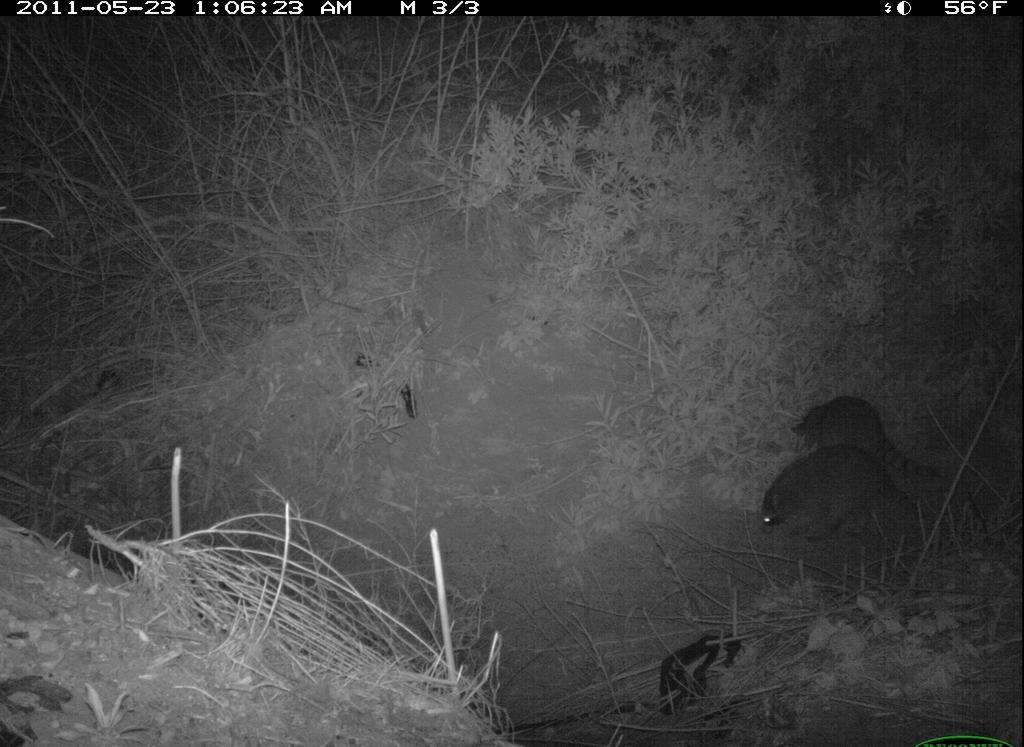raccoon: (752, 440, 923, 579), (786, 381, 925, 466)
